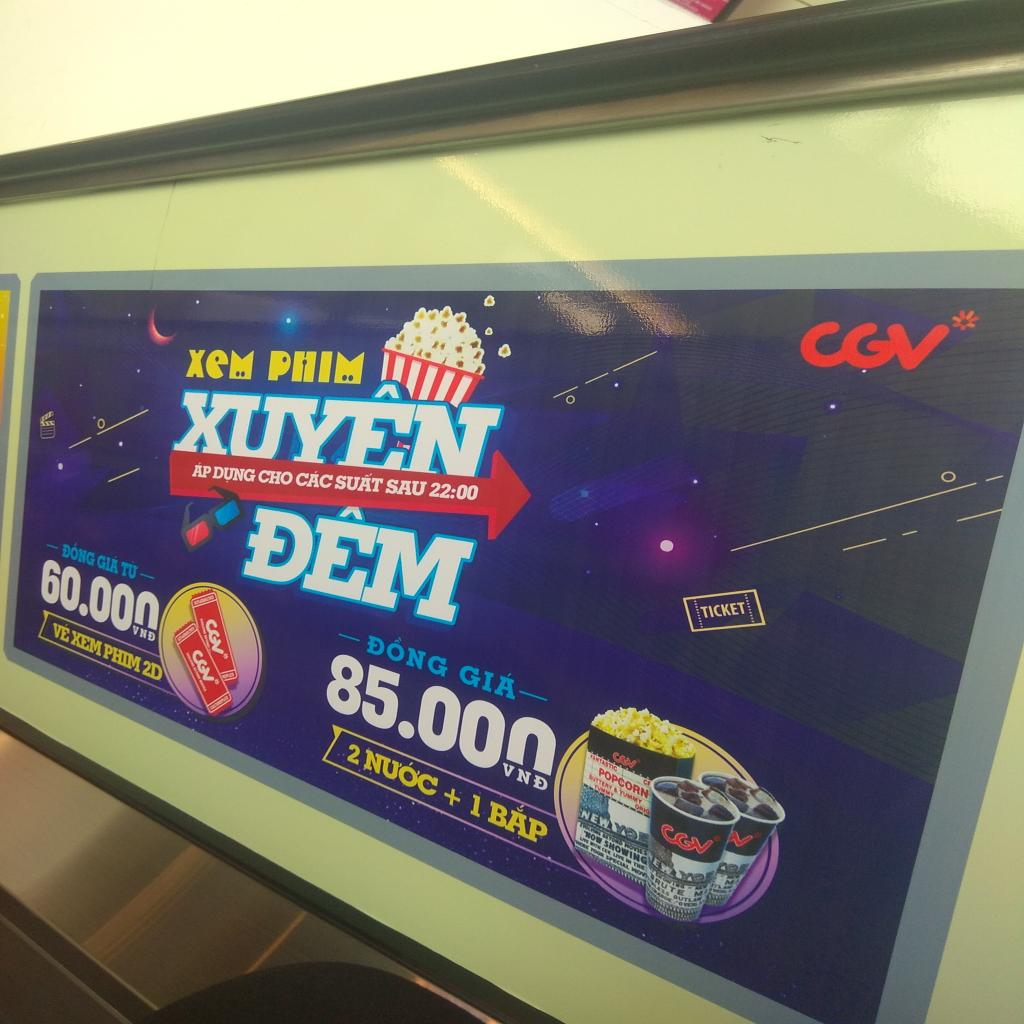text: (171, 378, 511, 479), (320, 651, 561, 793), (238, 493, 485, 626), (40, 556, 162, 645), (364, 630, 451, 679), (362, 745, 441, 798), (488, 792, 553, 846), (268, 351, 365, 384), (455, 661, 516, 700), (184, 350, 255, 380), (656, 822, 716, 856), (598, 767, 650, 799), (503, 762, 550, 792), (102, 643, 142, 673), (603, 840, 648, 866), (61, 538, 96, 568), (335, 471, 384, 492), (648, 874, 686, 898), (71, 629, 103, 657), (190, 649, 216, 682), (212, 466, 257, 485), (204, 618, 226, 656), (293, 469, 334, 489), (385, 479, 430, 497), (700, 602, 747, 618), (257, 469, 294, 486), (94, 552, 120, 576), (654, 872, 686, 891), (580, 810, 612, 828), (141, 659, 164, 682), (589, 754, 618, 772), (610, 751, 638, 769), (120, 558, 141, 580), (133, 626, 157, 644), (615, 822, 639, 840), (54, 619, 71, 644), (442, 786, 461, 808), (588, 774, 613, 790), (190, 462, 212, 480), (604, 855, 630, 870), (733, 830, 755, 847), (346, 743, 362, 766), (678, 869, 706, 882), (624, 842, 648, 857), (619, 789, 644, 803), (469, 794, 483, 818), (583, 829, 604, 845), (602, 832, 624, 847), (580, 822, 602, 836), (595, 784, 614, 798), (653, 884, 672, 898), (671, 894, 698, 903), (631, 866, 647, 878), (635, 804, 650, 816), (590, 847, 605, 858), (724, 863, 740, 872), (576, 840, 590, 850), (633, 861, 646, 871), (612, 852, 624, 862), (601, 846, 612, 856), (590, 841, 602, 850), (652, 857, 661, 869), (642, 778, 652, 788), (580, 836, 590, 844), (694, 890, 704, 898), (724, 880, 736, 885), (714, 884, 724, 889), (625, 858, 632, 865), (677, 901, 684, 907)
